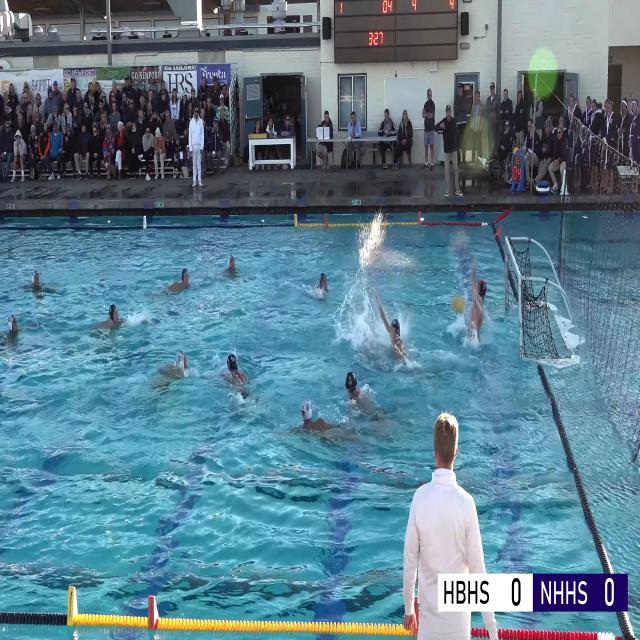ball: (453, 294, 466, 313), (513, 147, 519, 153)
